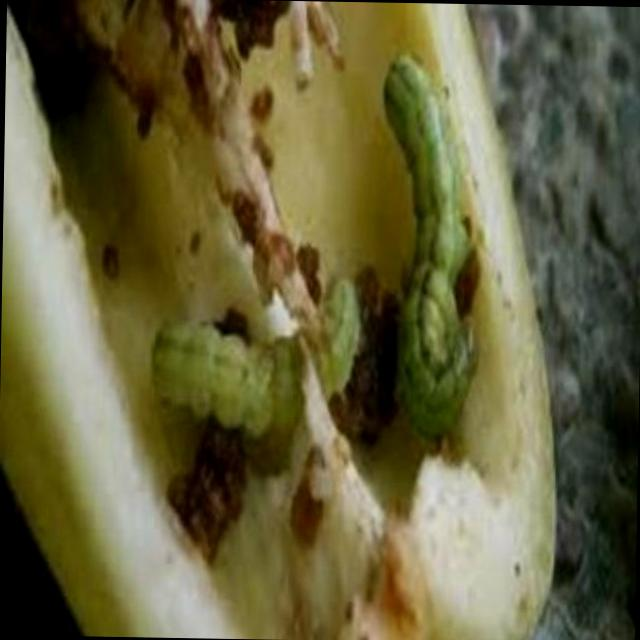Cotton bollworm: (336, 41, 533, 448), (102, 254, 302, 486)
